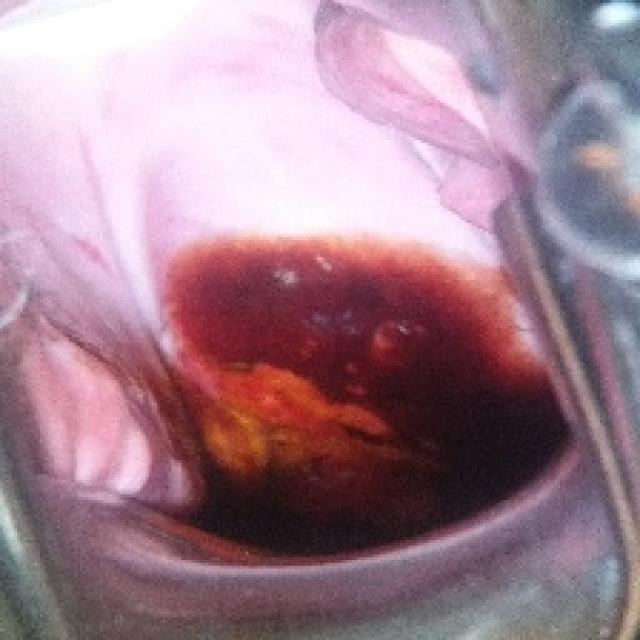type-2: (43, 144, 574, 634)
